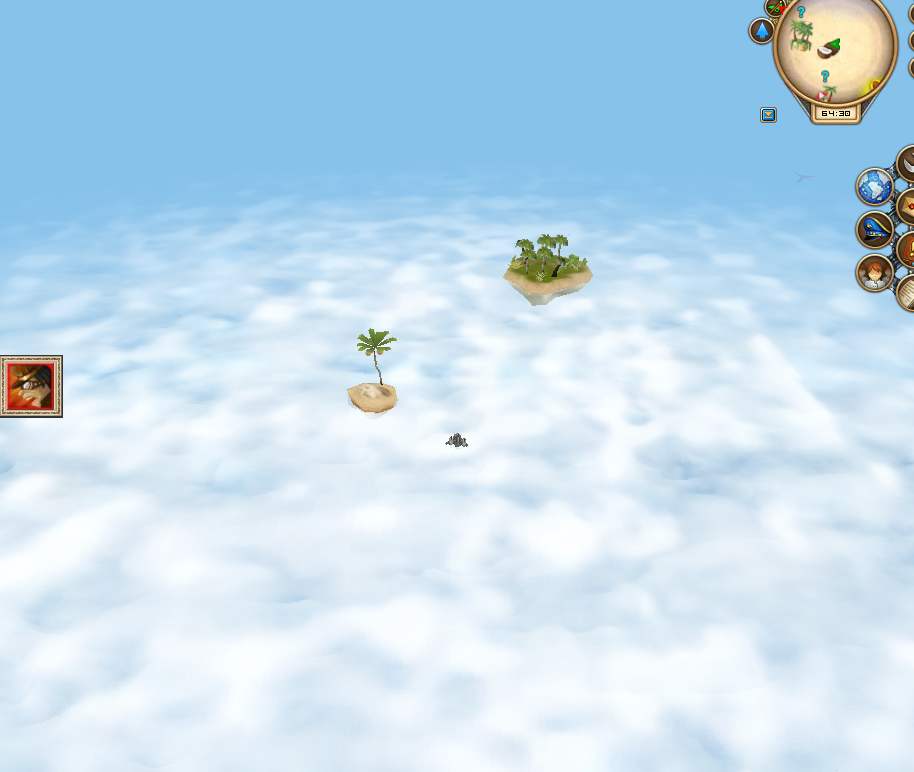palm: (338, 327, 403, 416)
